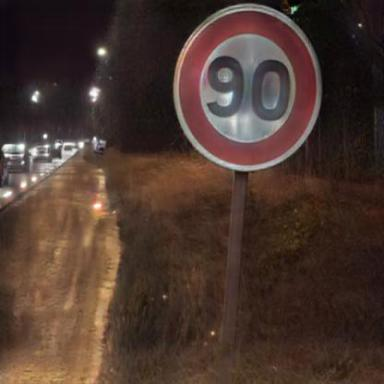Speed_limit_90: (180, 11, 316, 167)
